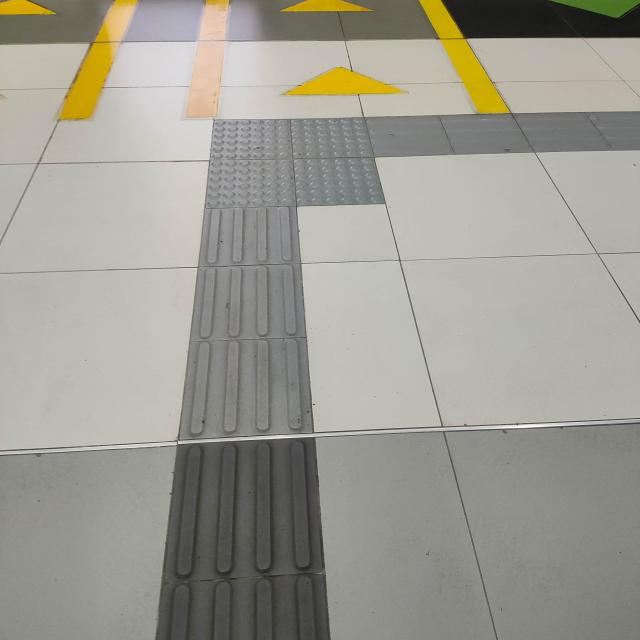kanan: (153, 87, 540, 235)
